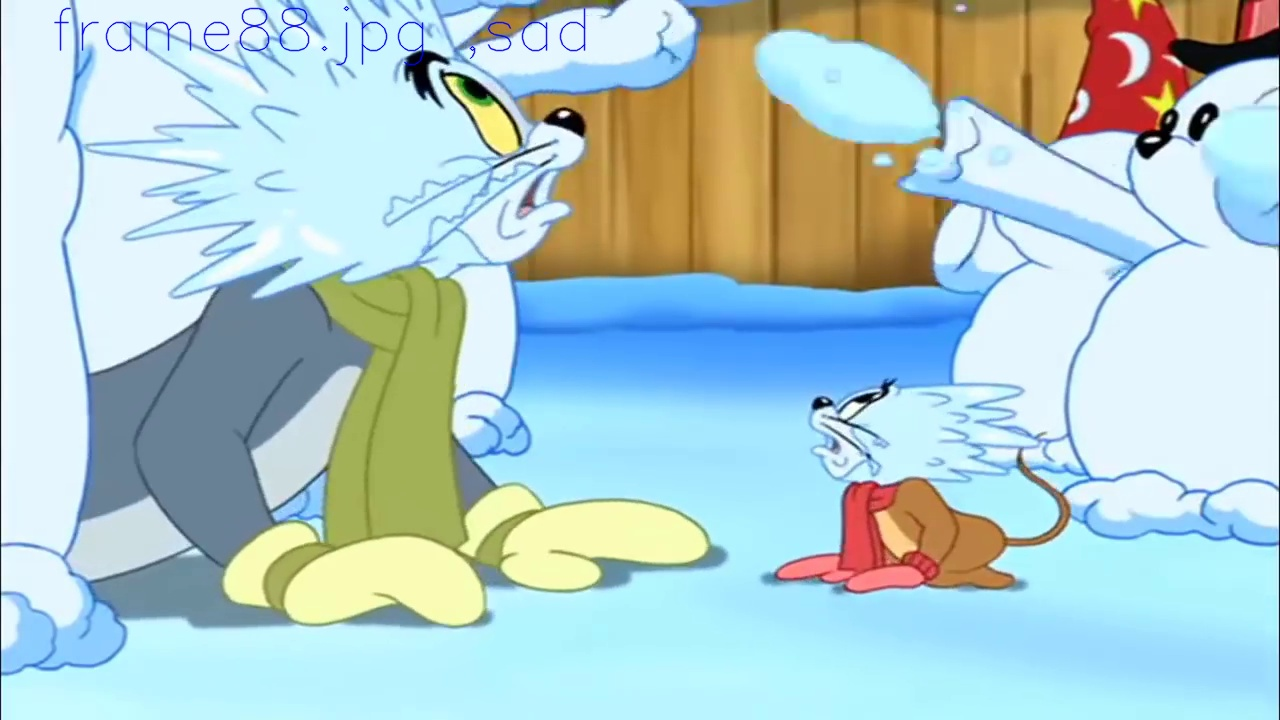sad: (395, 48, 577, 260), (809, 381, 901, 488)
